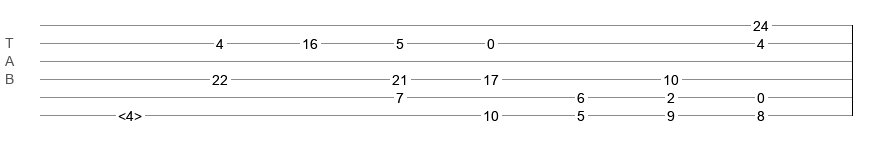0: (487, 36, 495, 46), (757, 90, 765, 100)
10: (483, 108, 499, 118), (663, 72, 679, 82)
16: (302, 36, 318, 46)
17: (483, 72, 499, 82)
2: (667, 90, 675, 100)
21: (392, 72, 408, 82)
22: (212, 72, 228, 82)
24: (753, 18, 769, 28)
4: (216, 36, 224, 46), (757, 36, 765, 46)
5: (396, 36, 404, 46), (577, 108, 585, 118)
6: (577, 90, 585, 100)
7: (396, 90, 404, 100)
8: (757, 108, 765, 118)
9: (667, 108, 675, 118)
harmonic: (118, 108, 142, 118)
